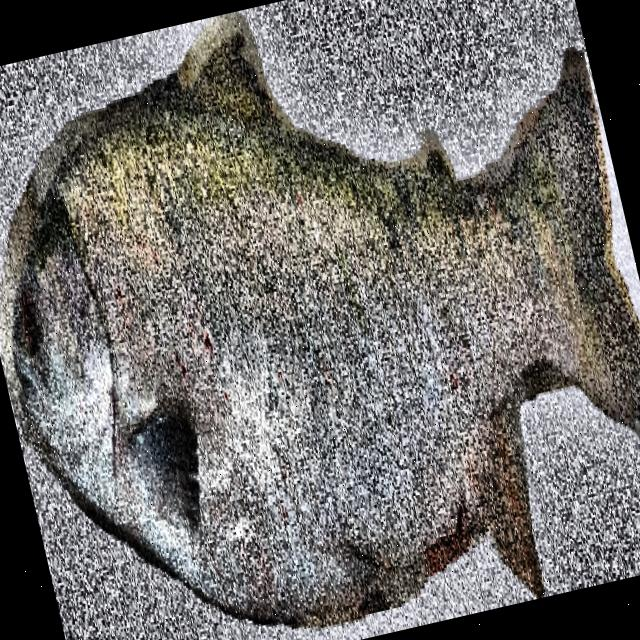mild_red: (58, 101, 563, 619)
wound: (424, 509, 468, 573)
